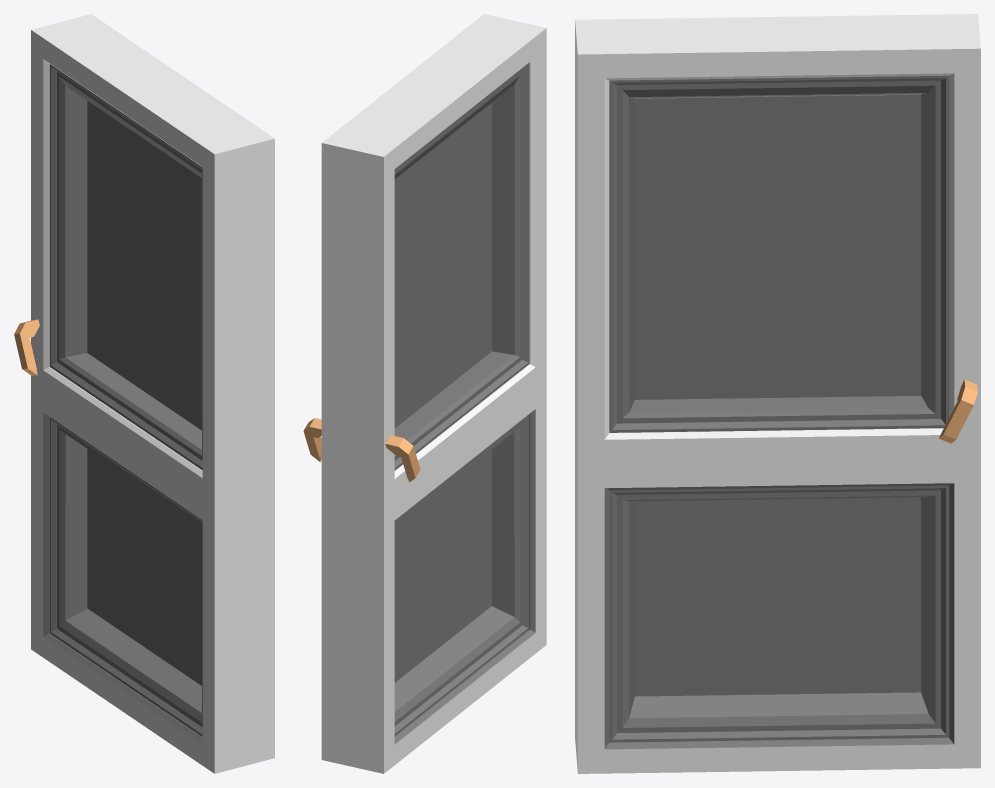
Rendered from Door_3.fbx.
3 renders of one model, left to right at view 1: azimuth 30°, elevation 25°; view 2: azimuth 150°, elevation 25°; view 3: azimuth 270°, elevation 25°, orthographic. The views are drawn at different scales.
Parts seen in each view (by area): view 1: Door_3; view 2: Door_3; view 3: Door_3.
Boxes of the visible parts, left/top/right/bottom form: Door_3: left=14, top=14, right=274, bottom=773; Door_3: left=303, top=14, right=546, bottom=773; Door_3: left=575, top=14, right=980, bottom=773.
Size of the model in its own units: 0.3519 by 2 by 1.02.
